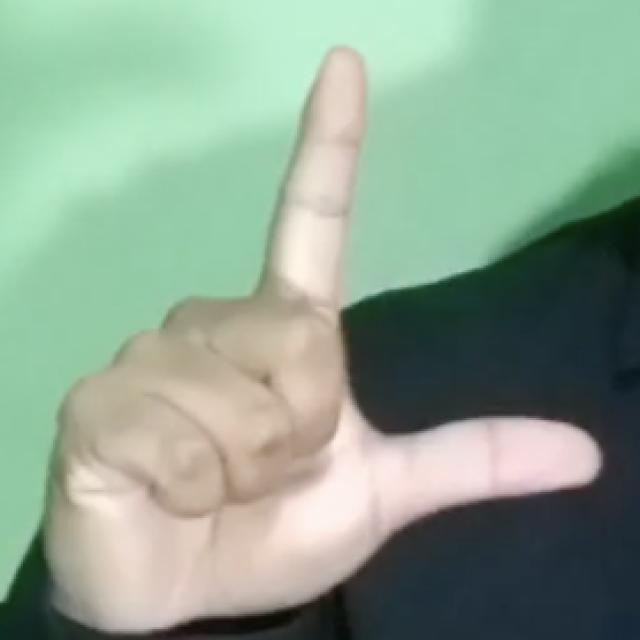LL: (40, 34, 614, 619)
